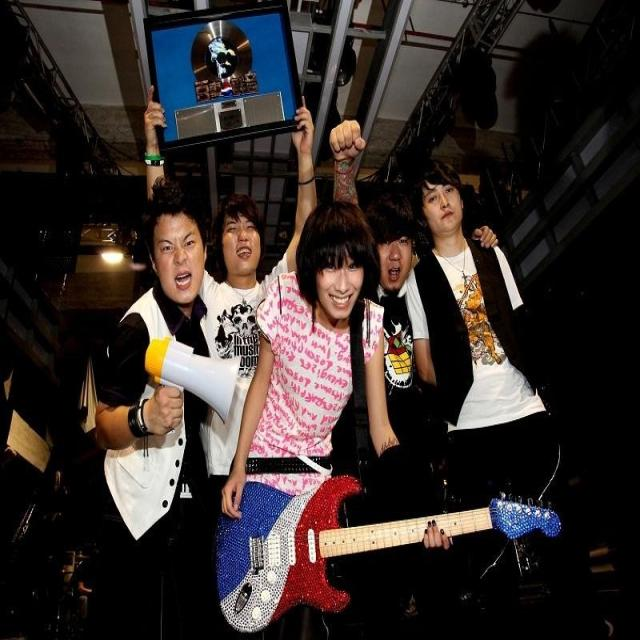guitar: (216, 474, 566, 634)
